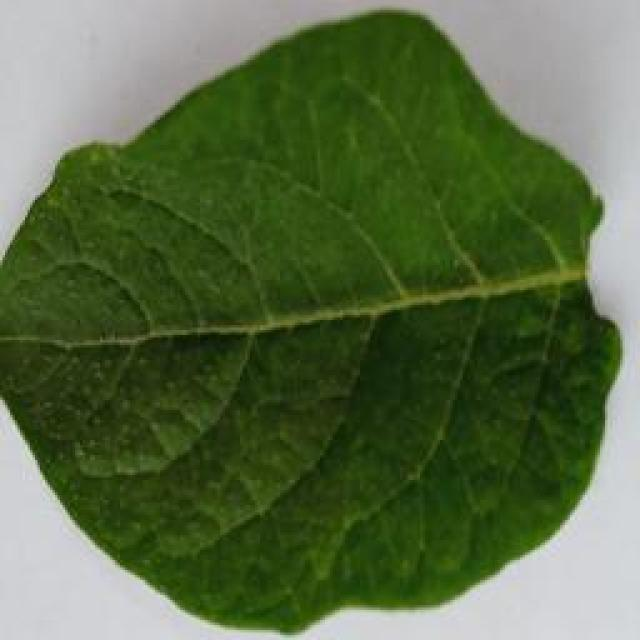Potato_Healthy: (2, 5, 628, 632)
